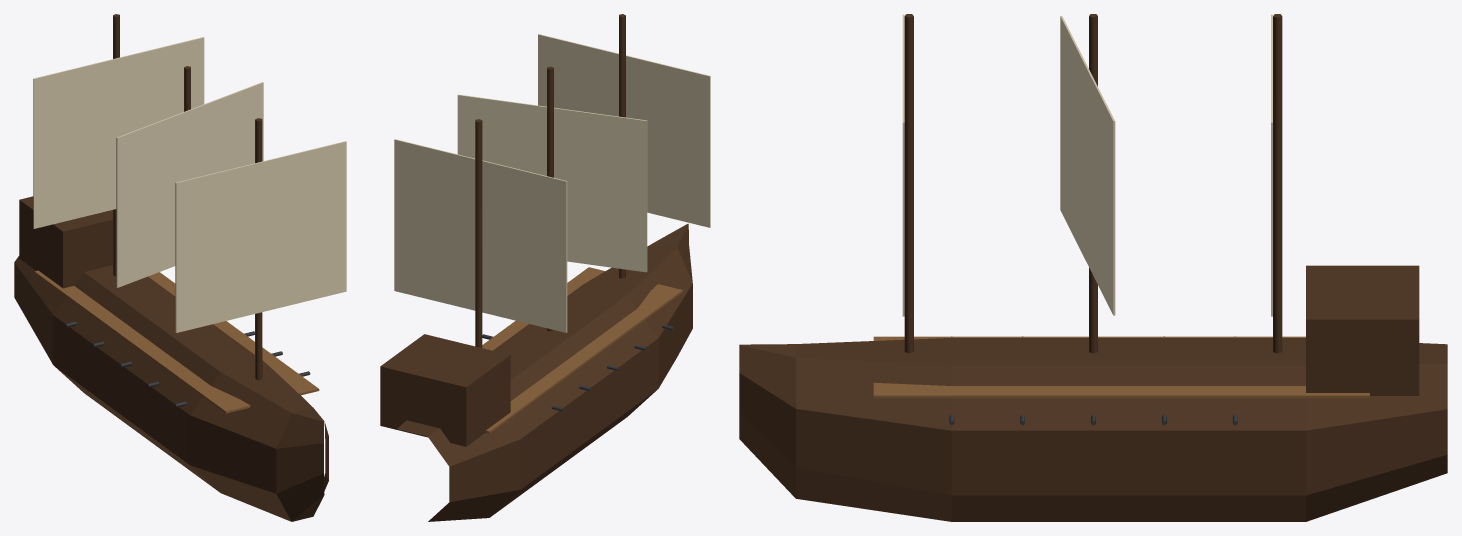
File: veh_naval_warship_a04.glb
3 renders of one model, left to right at view 1: azimuth 30°, elevation 25°; view 2: azimuth 150°, elevation 25°; view 3: azimuth 270°, elevation 25°, orthographic. The views are drawn at different scales.
Parts seen in each view (by area): view 1: body, sail_2, sail_0, sail_1; view 2: body, sail_0, sail_1, sail_2; view 3: body, sail_1, sail_2.
Boxes of the visible parts, x1=… form: body: x1=14, y1=14, x2=328, y2=521; sail_2: x1=175, y1=141, x2=346, y2=332; sail_0: x1=33, y1=37, x2=204, y2=228; sail_1: x1=116, y1=82, x2=263, y2=287; body: x1=380, y1=14, x2=692, y2=521; sail_0: x1=394, y1=139, x2=567, y2=332; sail_1: x1=457, y1=94, x2=647, y2=272; sail_2: x1=538, y1=34, x2=710, y2=227; body: x1=739, y1=14, x2=1447, y2=521; sail_1: x1=1060, y1=16, x2=1115, y2=315; sail_2: x1=902, y1=14, x2=904, y2=316.
Size of what is drawn, in the model's own units: 6.77 by 14.42 by 18.8.
